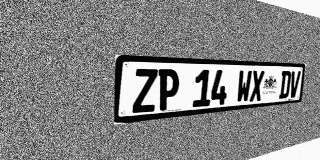1: (193, 70, 212, 107)
4: (210, 70, 229, 106)
D: (279, 71, 292, 99)
P: (157, 69, 180, 111)
V: (288, 71, 301, 98)
W: (236, 70, 252, 103)
X: (249, 70, 264, 102)
Z: (132, 69, 158, 113)
